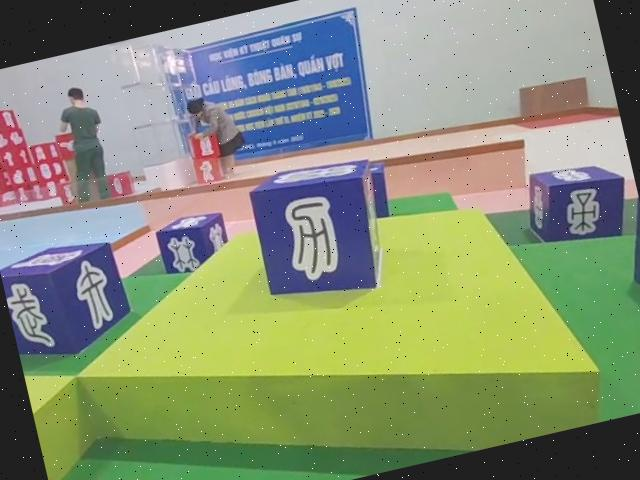R2 Fake Blue: (243, 150, 399, 312), (0, 232, 135, 365)
R2 Real Blue: (517, 153, 635, 254), (152, 207, 232, 278)
